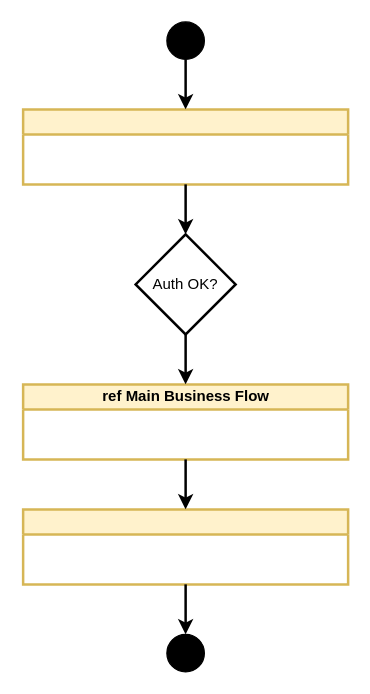
Some shapes in this 370 by 694 pixel diagram are drawn without their labels. Here are the shapes that lost their labels. From the top down, the box of each, then its label:
(21, 108, 349, 185): ref Authentication Flow
(21, 508, 349, 585): ref Error Handling
